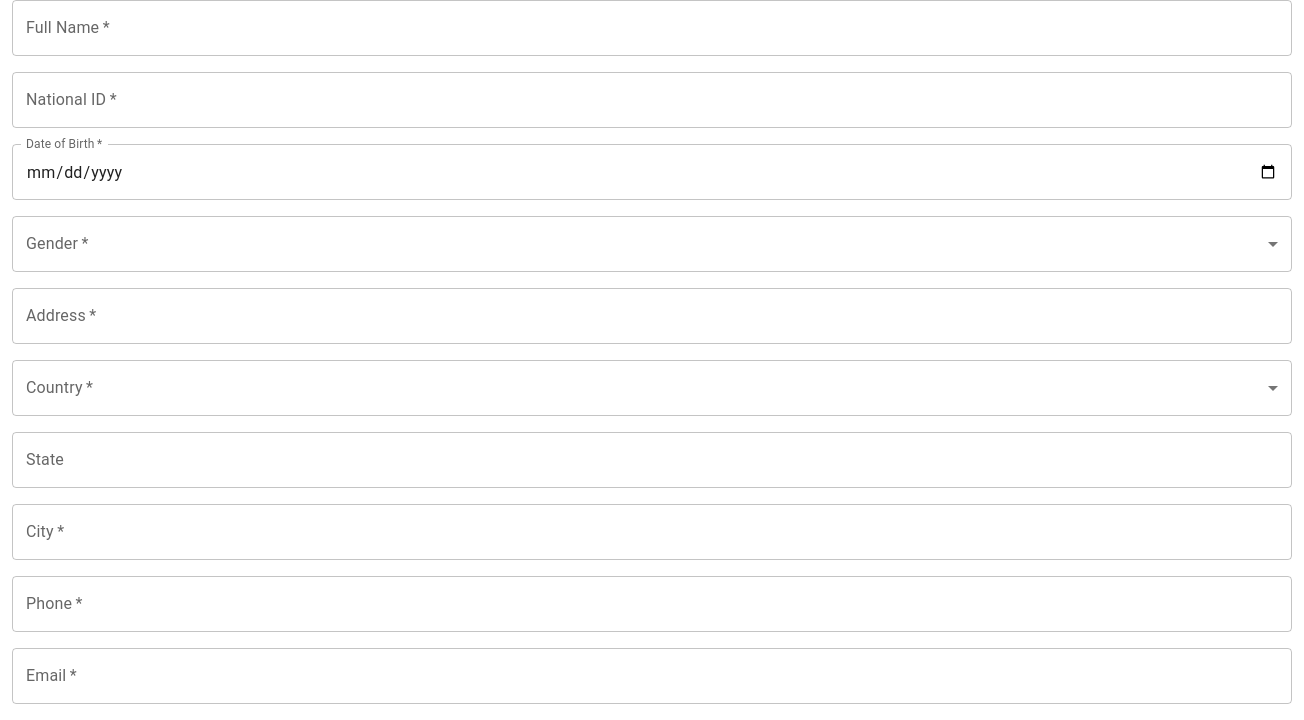
Test: PersonalInfoForm › shows pattern error for invalid email
Type "not-an-email" into the field labelled "Email" at (652, 676), box x1=12 y1=648 x2=1292 y2=704
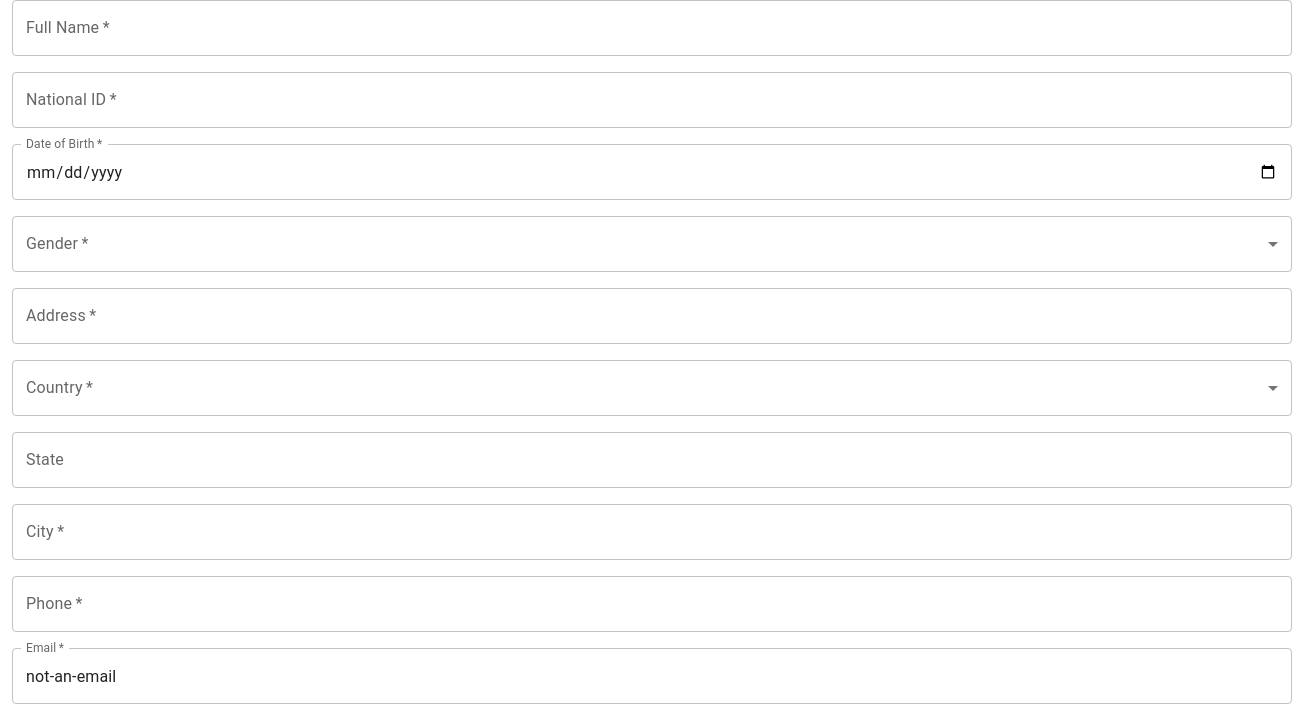
Submit the form
(page scrolled)
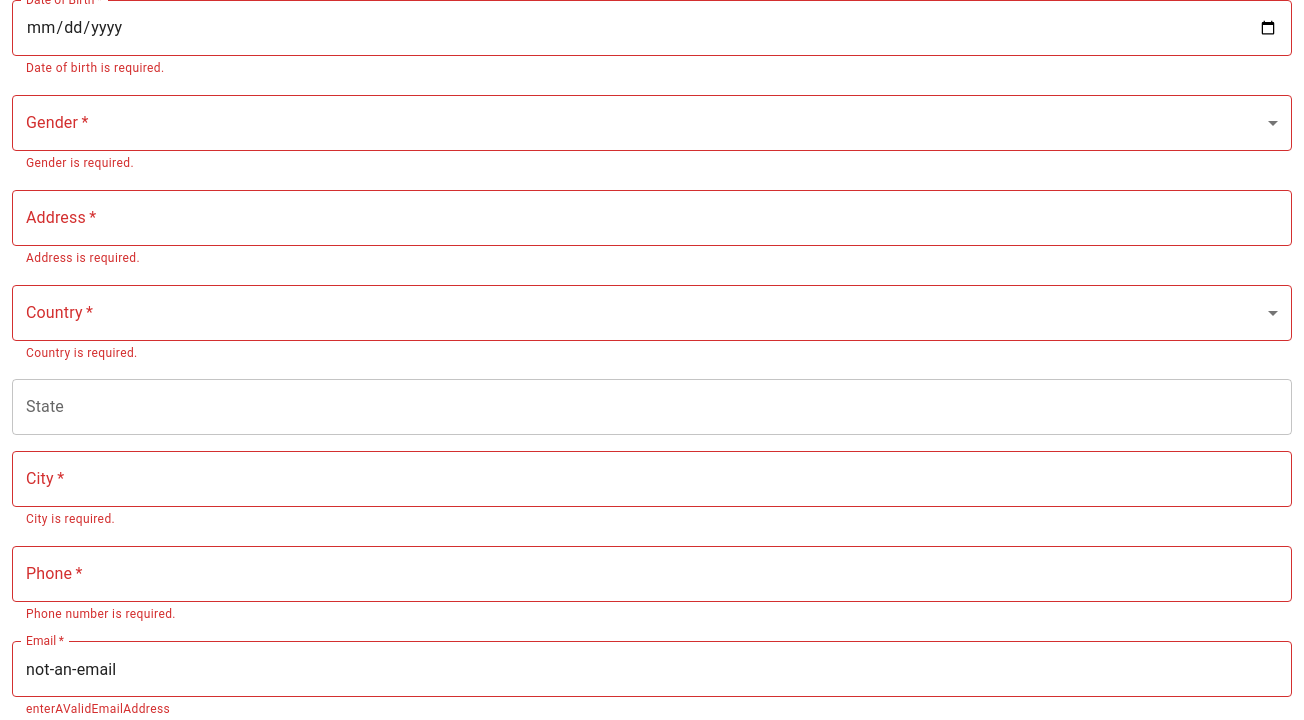
Result: the text "enterAValidEmailAddress" is shown at x1=26 y1=702 x2=170 y2=716
